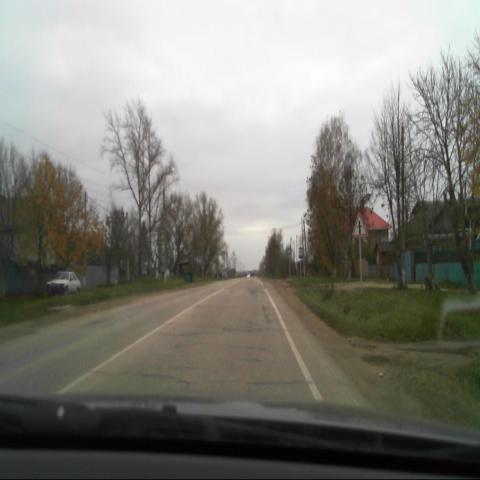2_3: (350, 212, 368, 239)
